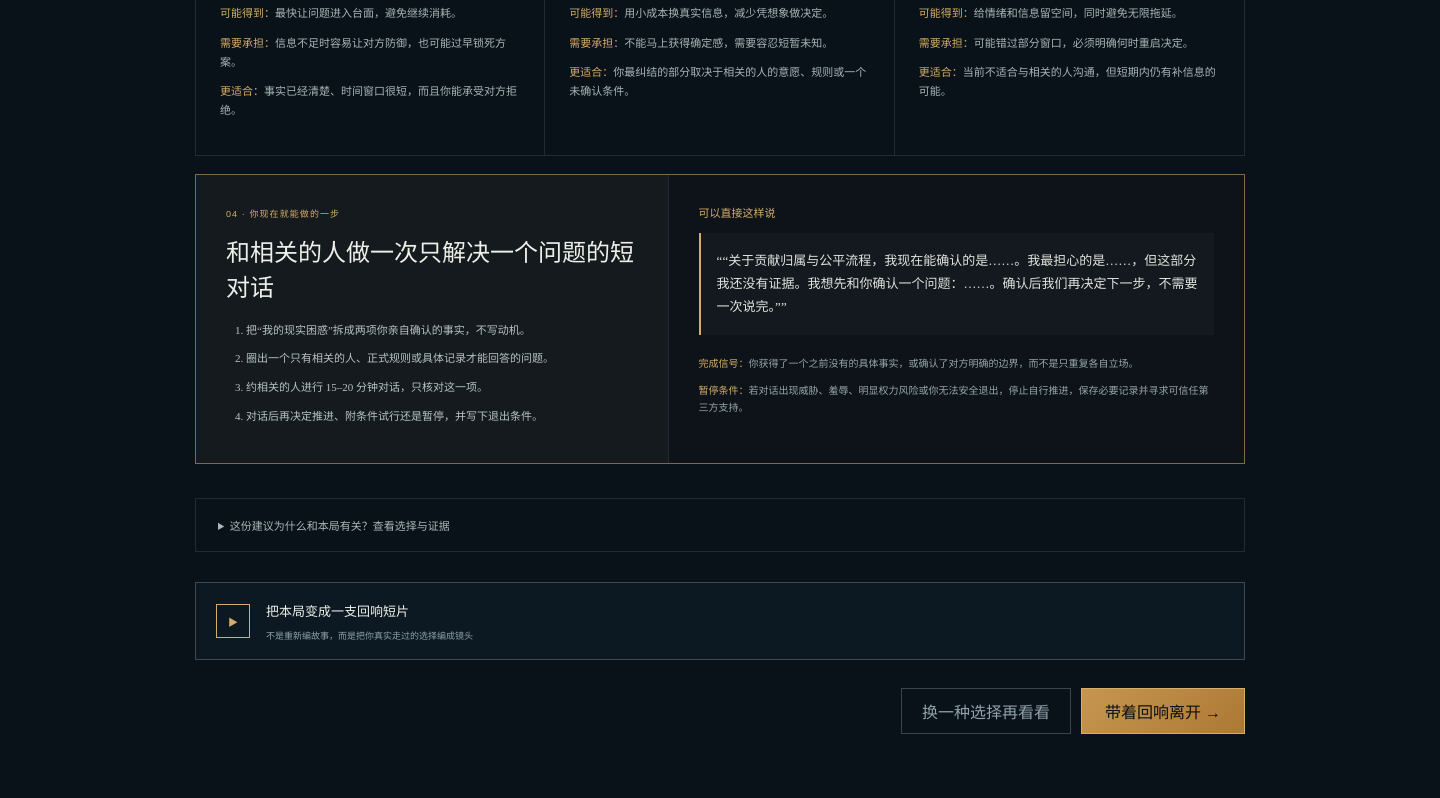
Test: dynamic world UI › turns the played history into a transparent local reel storyboard
(page scrolled)
Click the button "▶ 把本局变成一支回响短片 不是重新编故事，而是把你真实走过的选择编成镜头": (233, 621) [196, 583, 1244, 659]
(page scrolled)
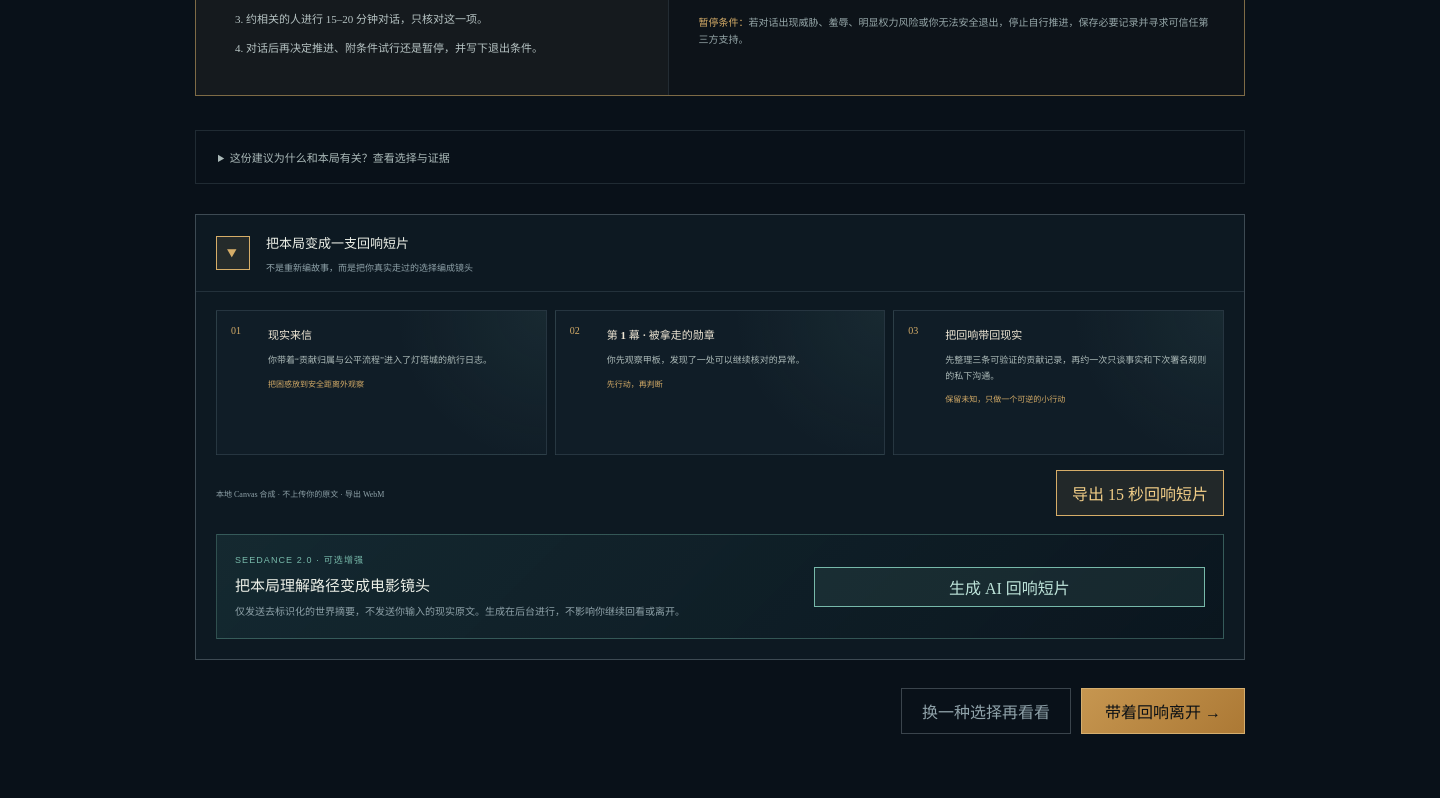
Expected: the text "本地 Canvas 合成 · 不上传你的原文 · 导出 WebM" is shown, [216, 490, 384, 499]
Expected: the button "导出 15 秒回响短片" is shown, [1056, 470, 1224, 516]
Expected: the button "生成 AI 回响短片" is shown, [814, 567, 1205, 607]
